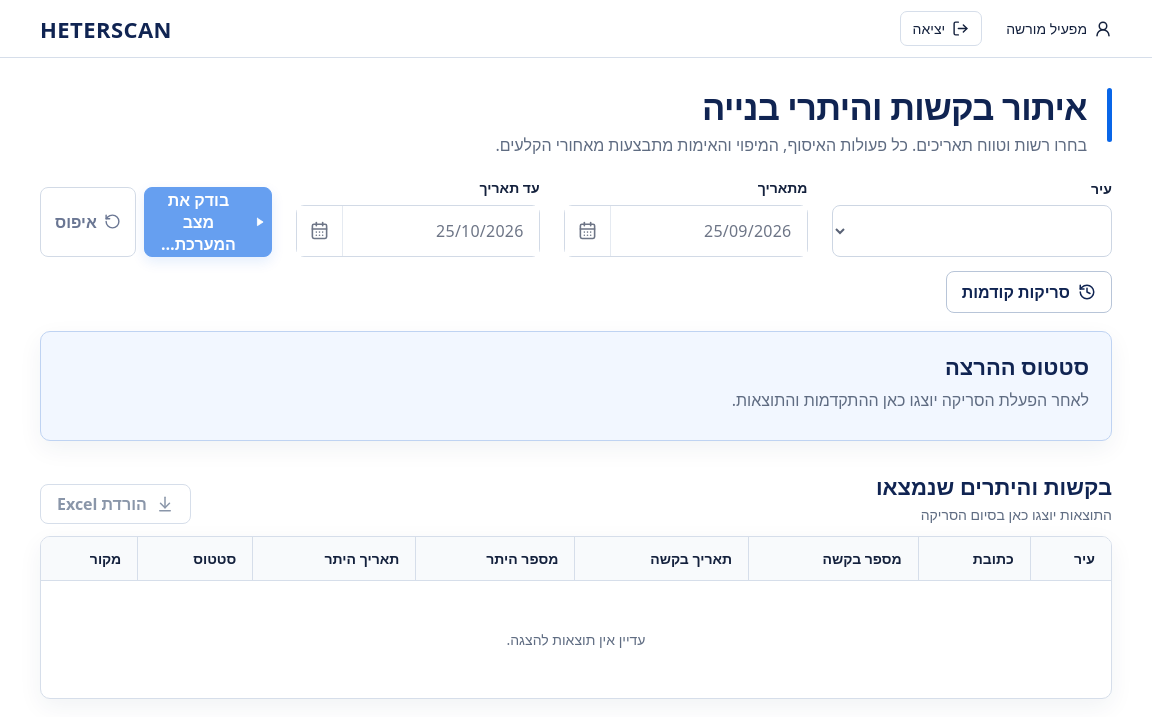
App cancellation reset › loads history only on request and opens a selected scan
The width and height of the screenshot is (1152, 717).
Click the button "סריקות קודמות".
click(1029, 292)  # box [946,271,1112,313]
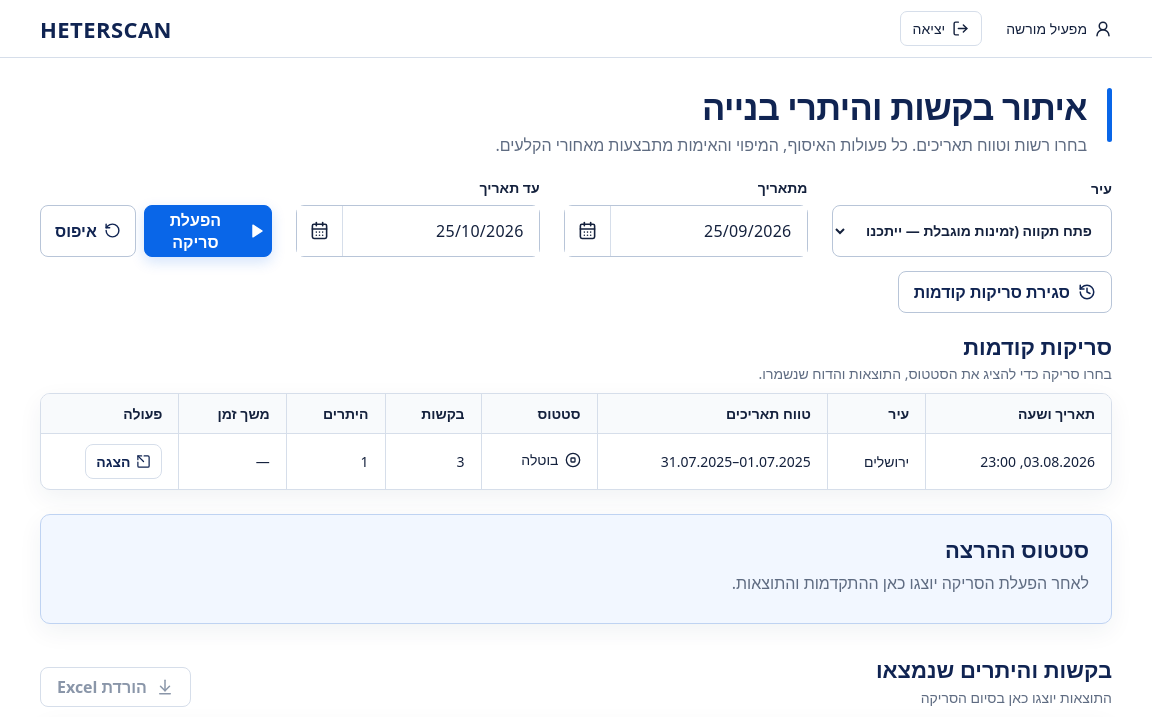
Result: the heading "סריקות קודמות" is shown at [963,331,1112,361]
Result: the text "ירושלים" is shown at [827,433,926,489]
Result: the text "בוטלה" is shown at [521,450,580,470]
Click the button "הצגה".
click(124, 461)  # box [85,444,162,479]
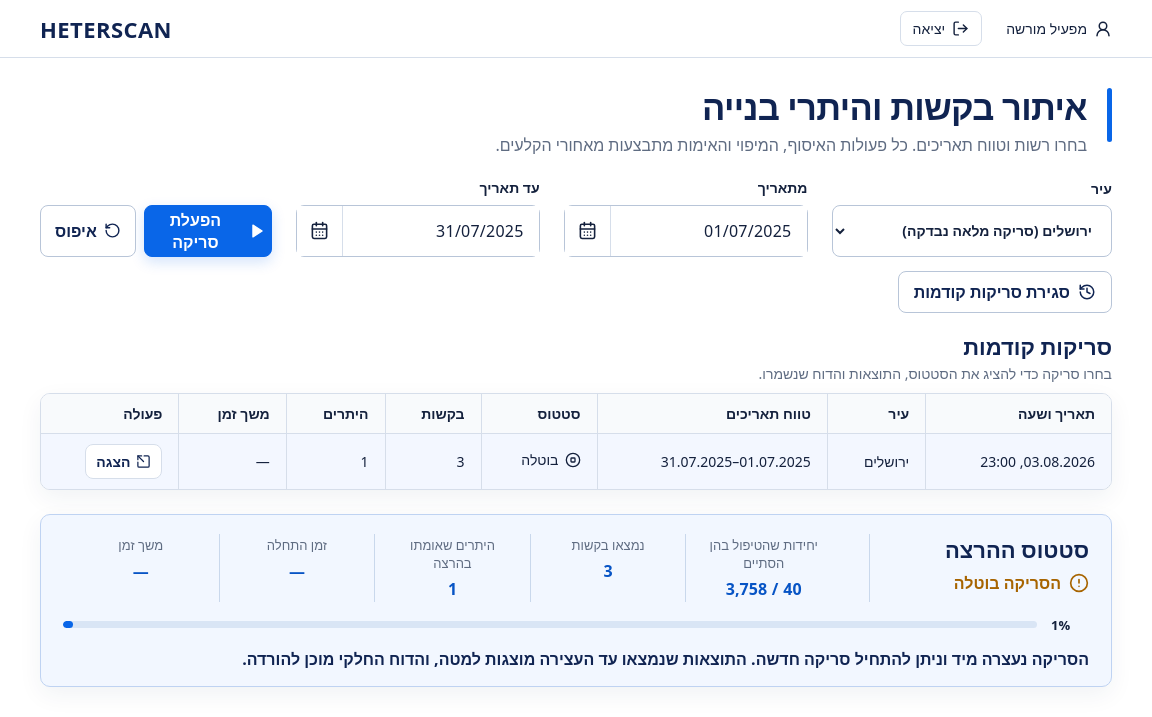
Result: the text "הסריקה בוטלה" is shown at [954,572,1089,594]
